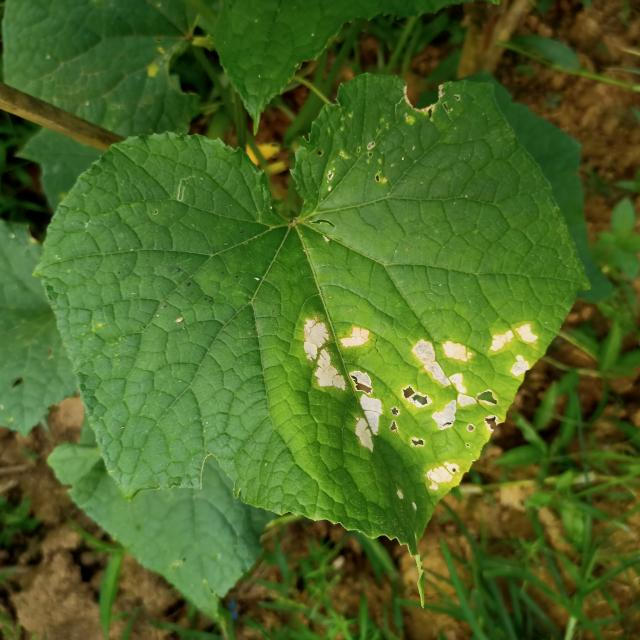disease_cucumber: (296, 310, 549, 505)
